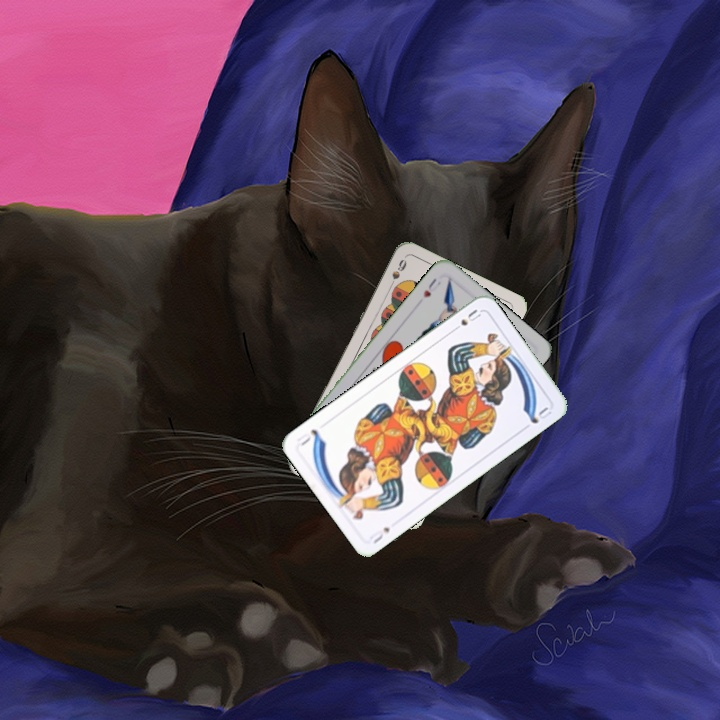HU: (419, 274, 444, 300)
S9: (384, 255, 409, 292)
SU: (447, 305, 484, 335), (365, 523, 393, 546)
